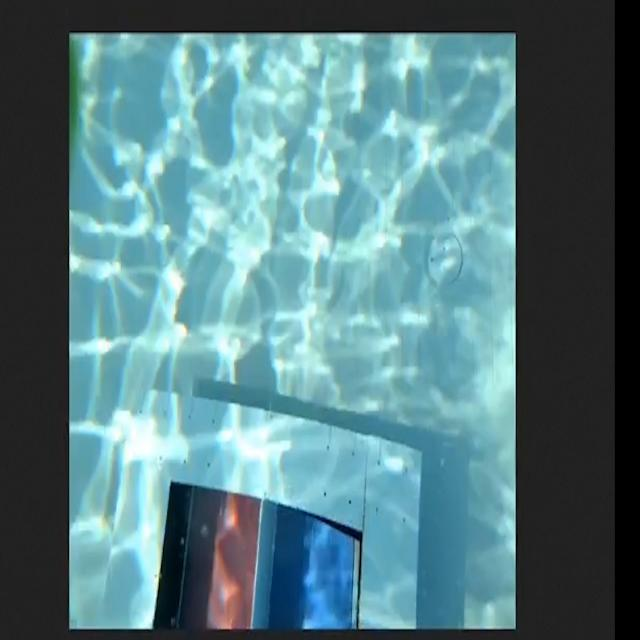Bin: (138, 385, 426, 628)
